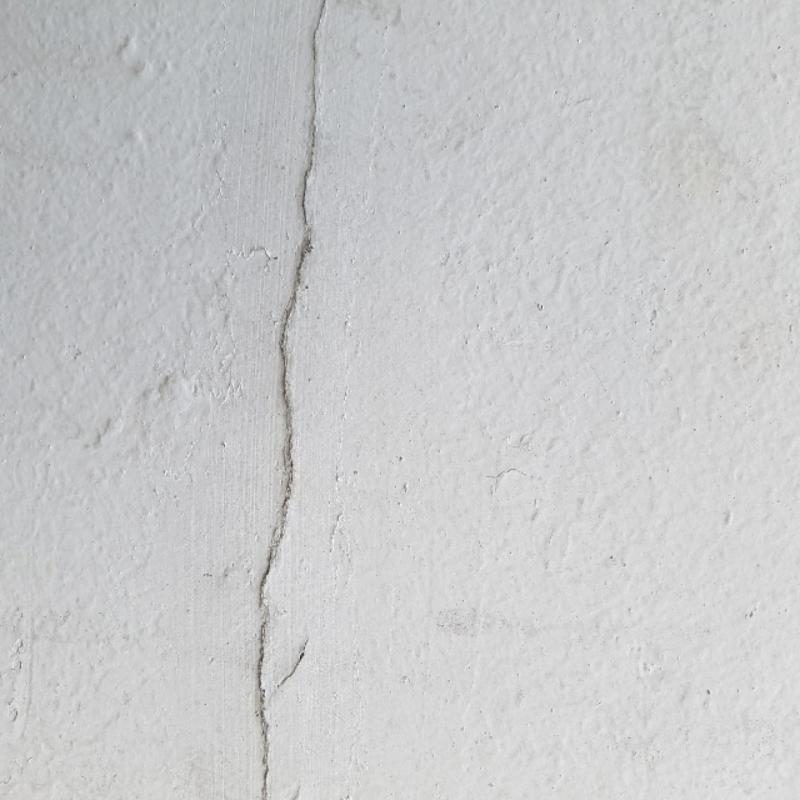pothole: (257, 1, 329, 799)
